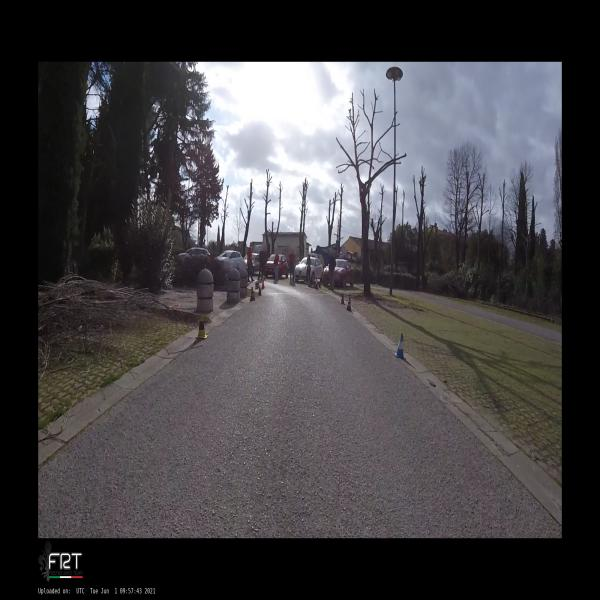blue_cone: (394, 334, 406, 360)
large_orange_cone: (346, 297, 352, 311), (250, 287, 256, 300), (262, 276, 265, 288)
orange_cone: (315, 279, 317, 286)
unknown_cone: (340, 293, 345, 304), (258, 285, 262, 296)
yellow_cone: (196, 313, 208, 339)
